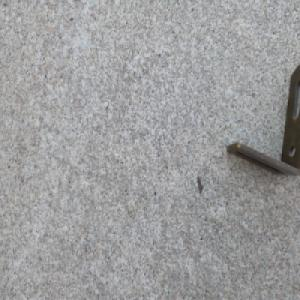MetalPart: (225, 61, 300, 179)
